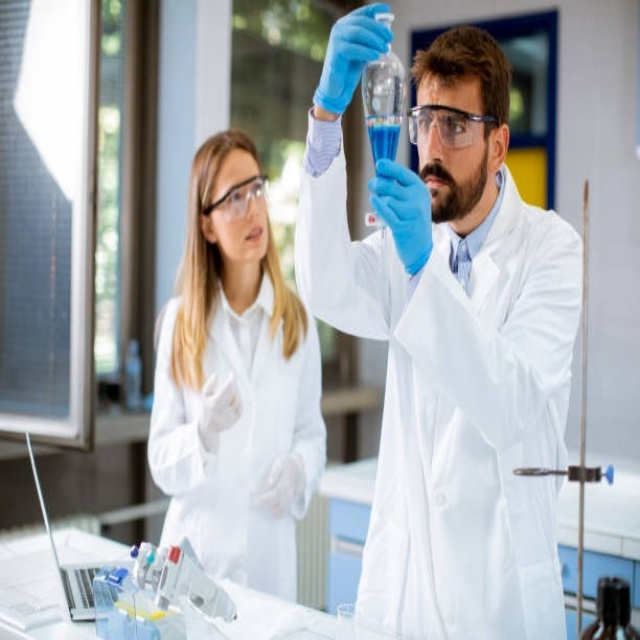Gafas: (409, 104, 498, 149), (203, 174, 268, 220)
Guantes: (312, 4, 393, 116), (369, 160, 433, 277), (197, 370, 243, 451), (253, 451, 305, 519)
Sin_mascara: (420, 152, 451, 201), (235, 220, 269, 256)
